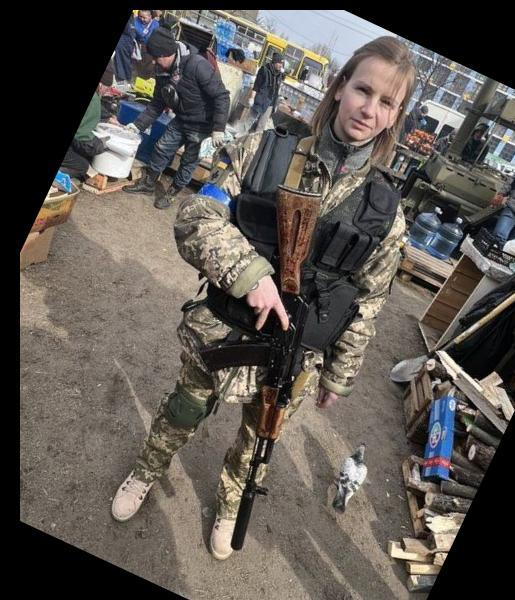larga: (203, 186, 325, 553)
